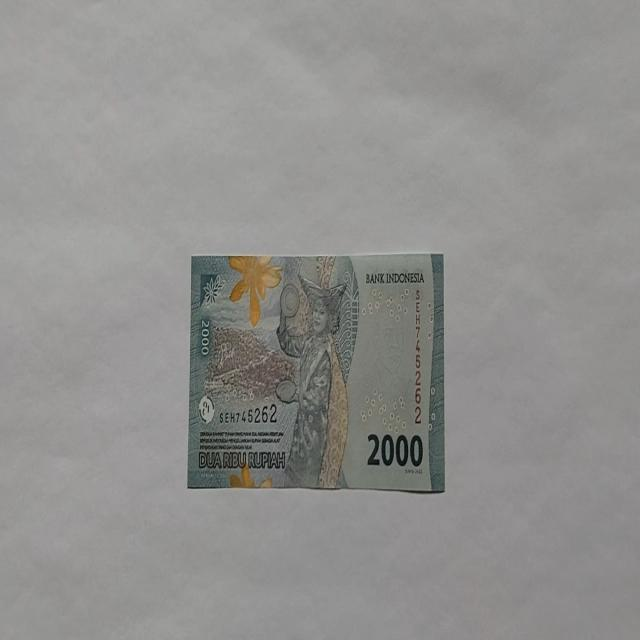dua ribu rupiah: (187, 250, 445, 492), (273, 261, 356, 488)
